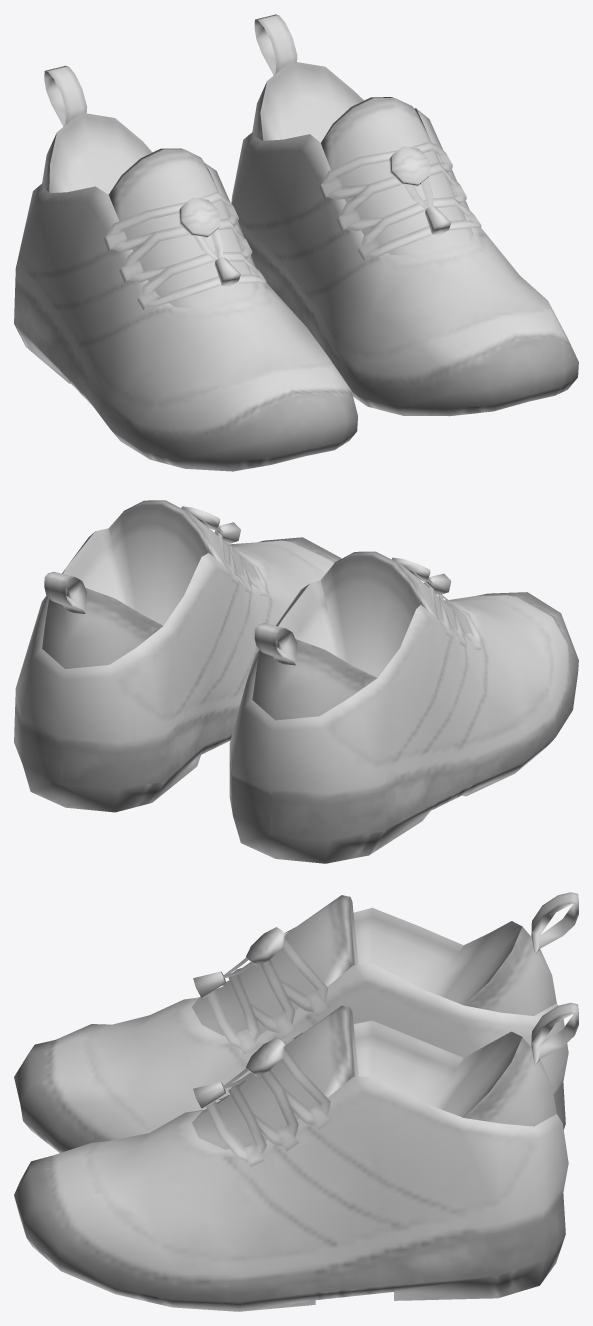
Rendered from p0_ftw1005_00_ftw00.gltf.
3 renders of one model, top to bottom at view 1: azimuth 30°, elevation 25°; view 2: azimuth 150°, elevation 25°; view 3: azimuth 270°, elevation 25°, orthographic. The views are drawn at different scales.
Visible parts, largest first — view 1: ftw00_shoes_mesh_shape:shoes; view 2: ftw00_shoes_mesh_shape:shoes; view 3: ftw00_shoes_mesh_shape:shoes.
Part boxes in pixels (x1,y1,x2,y2): ftw00_shoes_mesh_shape:shoes: (14, 14, 578, 471); ftw00_shoes_mesh_shape:shoes: (14, 500, 578, 863); ftw00_shoes_mesh_shape:shoes: (14, 892, 578, 1311).
Size of what is drawn, in the model's own units: 0.2333 by 0.1275 by 0.2558.
Materials: 1 (1 with a texture image).
